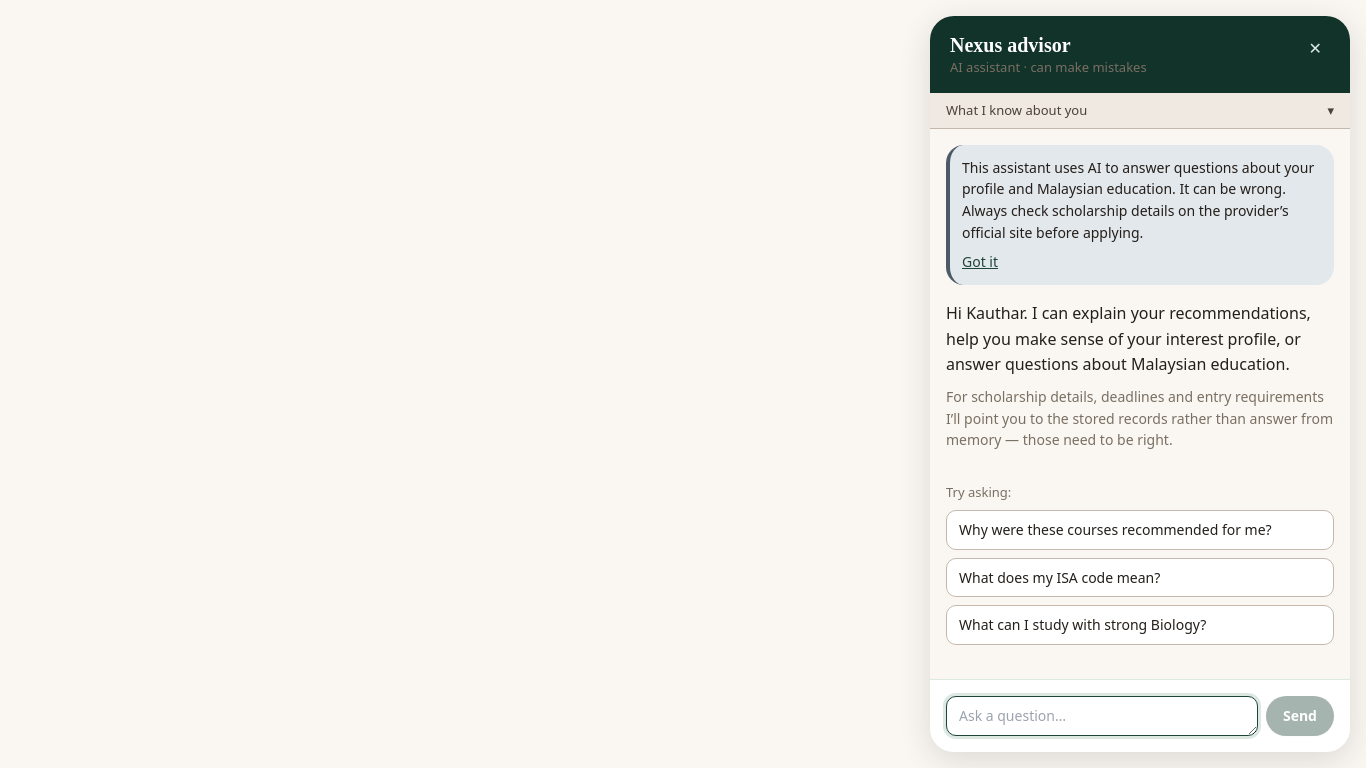
Test: ChatPanel — context transparency (ui-spec §8.4) › is collapsed by default and lists exactly what is sent when opened
The image size is (1366, 768).
Check: the text "Holland Code ISA" is not shown
Click the button "What I know about you ▾" at (1017, 110), box [930, 93, 1350, 128]
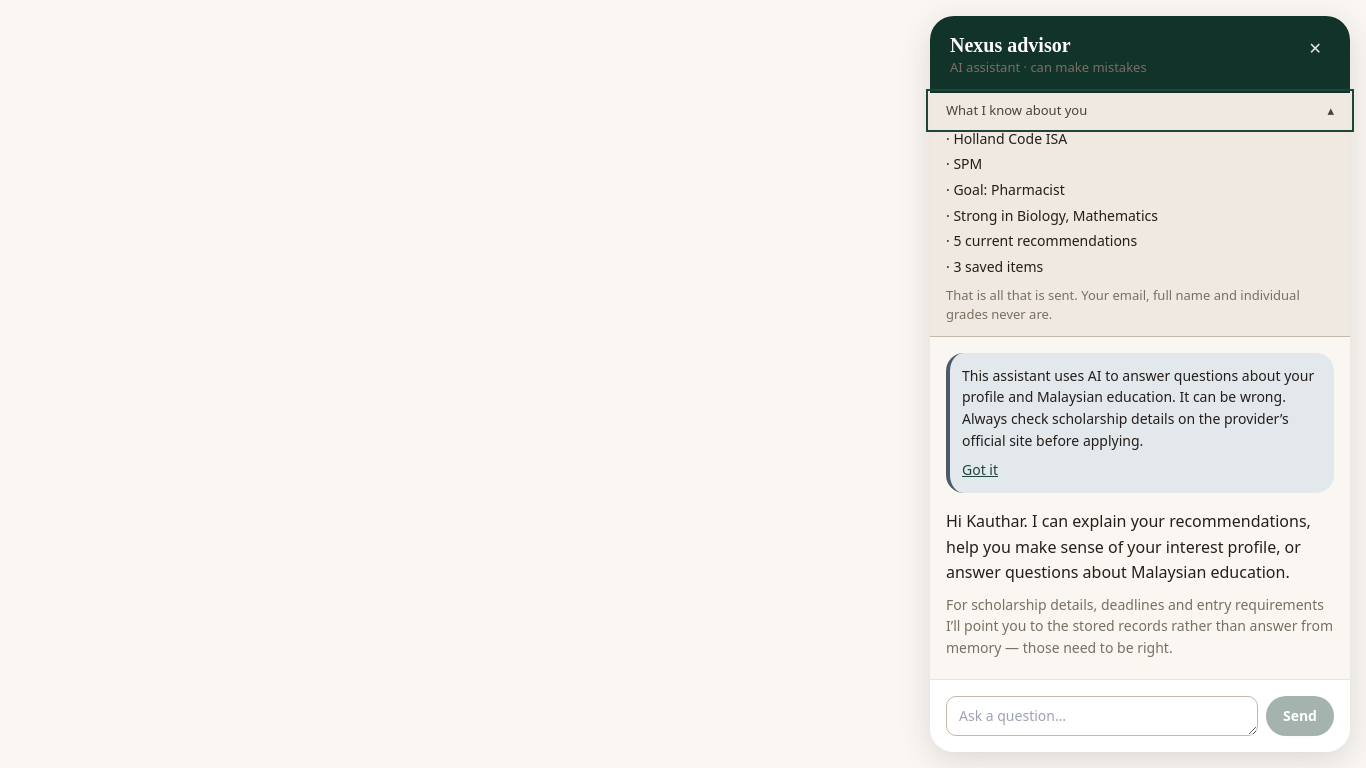
Check: the list item "· Holland Code ISA" is shown, box [946, 129, 1067, 148]
Check: the list item "· Strong in Biology, Mathematics" is shown, box [946, 206, 1158, 225]
Check: the text "email, full name and individual grades never are" is shown, box [946, 286, 1300, 323]
